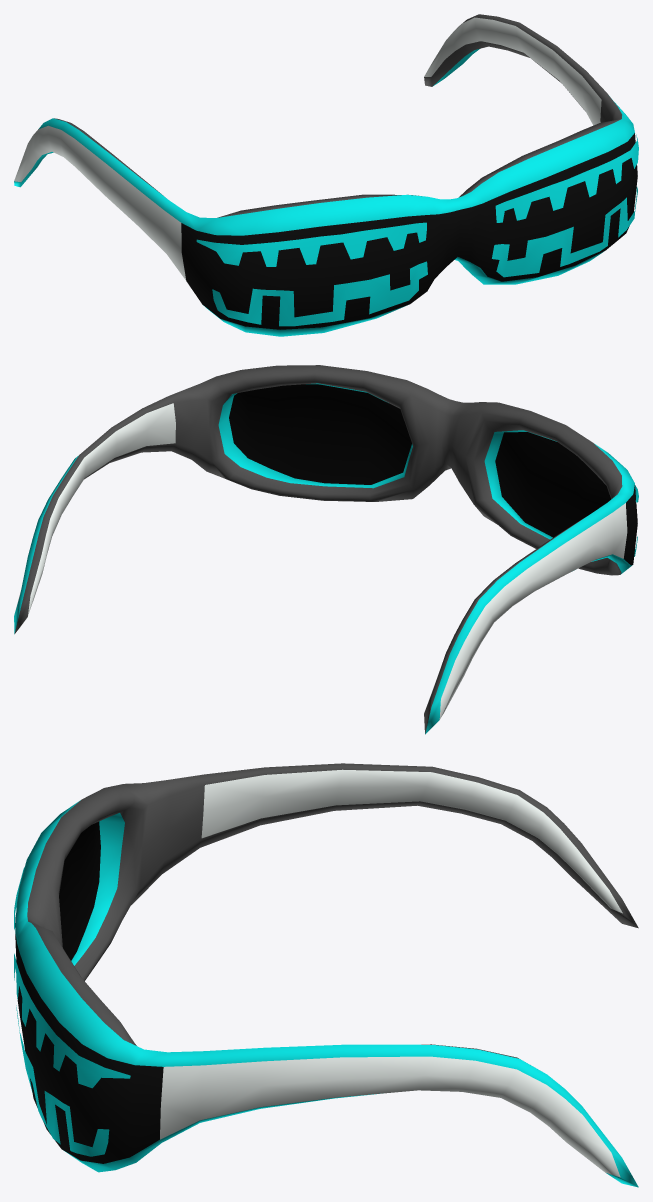
Rendered from CyberGlasses.glb.
The picture shows the model from 3 angles, top to bottom: view 1: azimuth 30°, elevation 25°; view 2: azimuth 150°, elevation 25°; view 3: azimuth 270°, elevation 25°; orthographic projection. The views are drawn at different scales.
Parts seen in each view (by area): view 1: Cube, Cube.001; view 2: Cube; view 3: Cube, Cube.001.
Part boxes in pixels (box(x1,y1,x2,y2)): Cube: box(14, 14, 637, 336); Cube.001: box(196, 134, 638, 326); Cube: box(14, 365, 637, 734); Cube: box(15, 763, 638, 1187); Cube.001: box(14, 867, 130, 1156).
Size of the model in its own units: 2.07 by 0.565 by 1.86.
